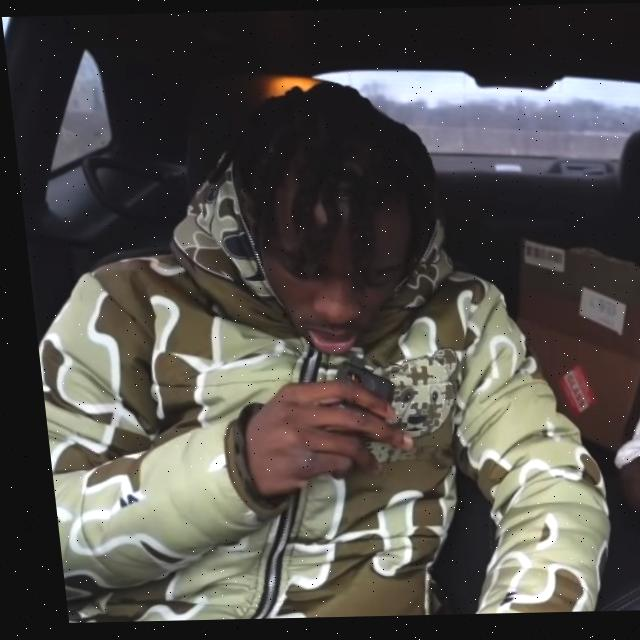vape: (315, 346, 388, 409)
